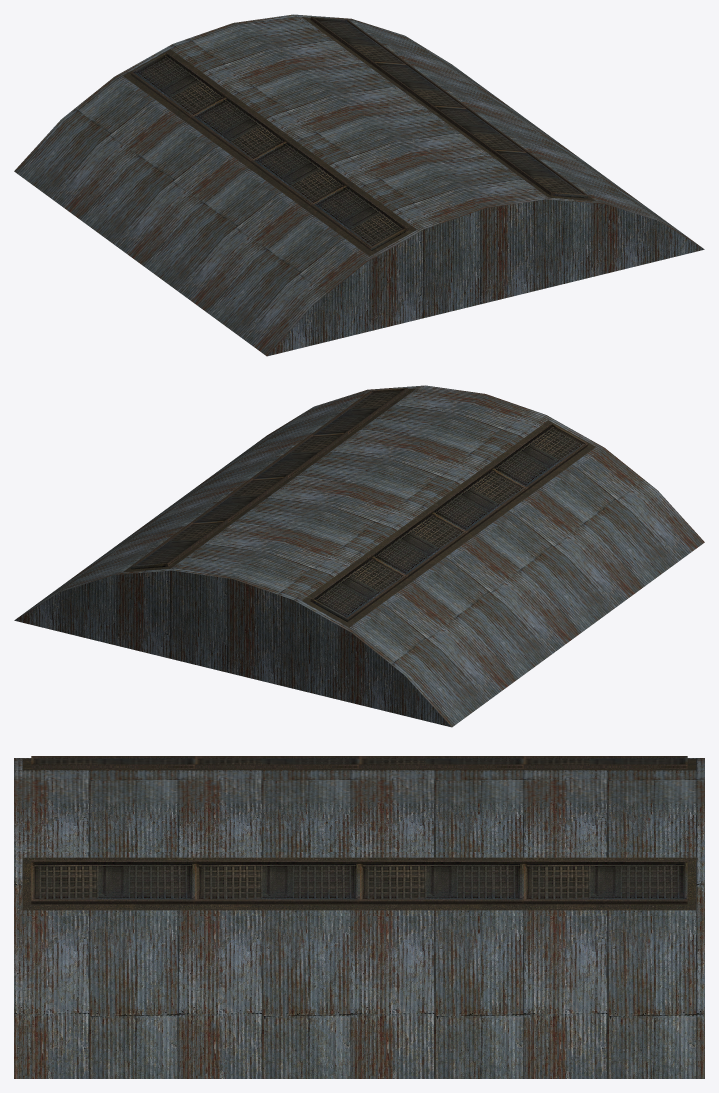
Rendered from warehouse_hs_1_roof_2.glb.
3 renders of one model, top to bottom at view 1: azimuth 30°, elevation 25°; view 2: azimuth 150°, elevation 25°; view 3: azimuth 270°, elevation 25°, orthographic. The views are drawn at different scales.
Visible parts, largest first — view 1: warehouse_hs_1_roof_2; view 2: warehouse_hs_1_roof_2; view 3: warehouse_hs_1_roof_2.
Part boxes in pixels (x1=…): warehouse_hs_1_roof_2: x1=14, y1=14, x2=704, y2=356; warehouse_hs_1_roof_2: x1=14, y1=385, x2=704, y2=727; warehouse_hs_1_roof_2: x1=14, y1=756, x2=704, y2=1078.
Bounding box in the file's own units: 8 × 1.66 × 8.
Materials: 3 (3 with a texture image).
